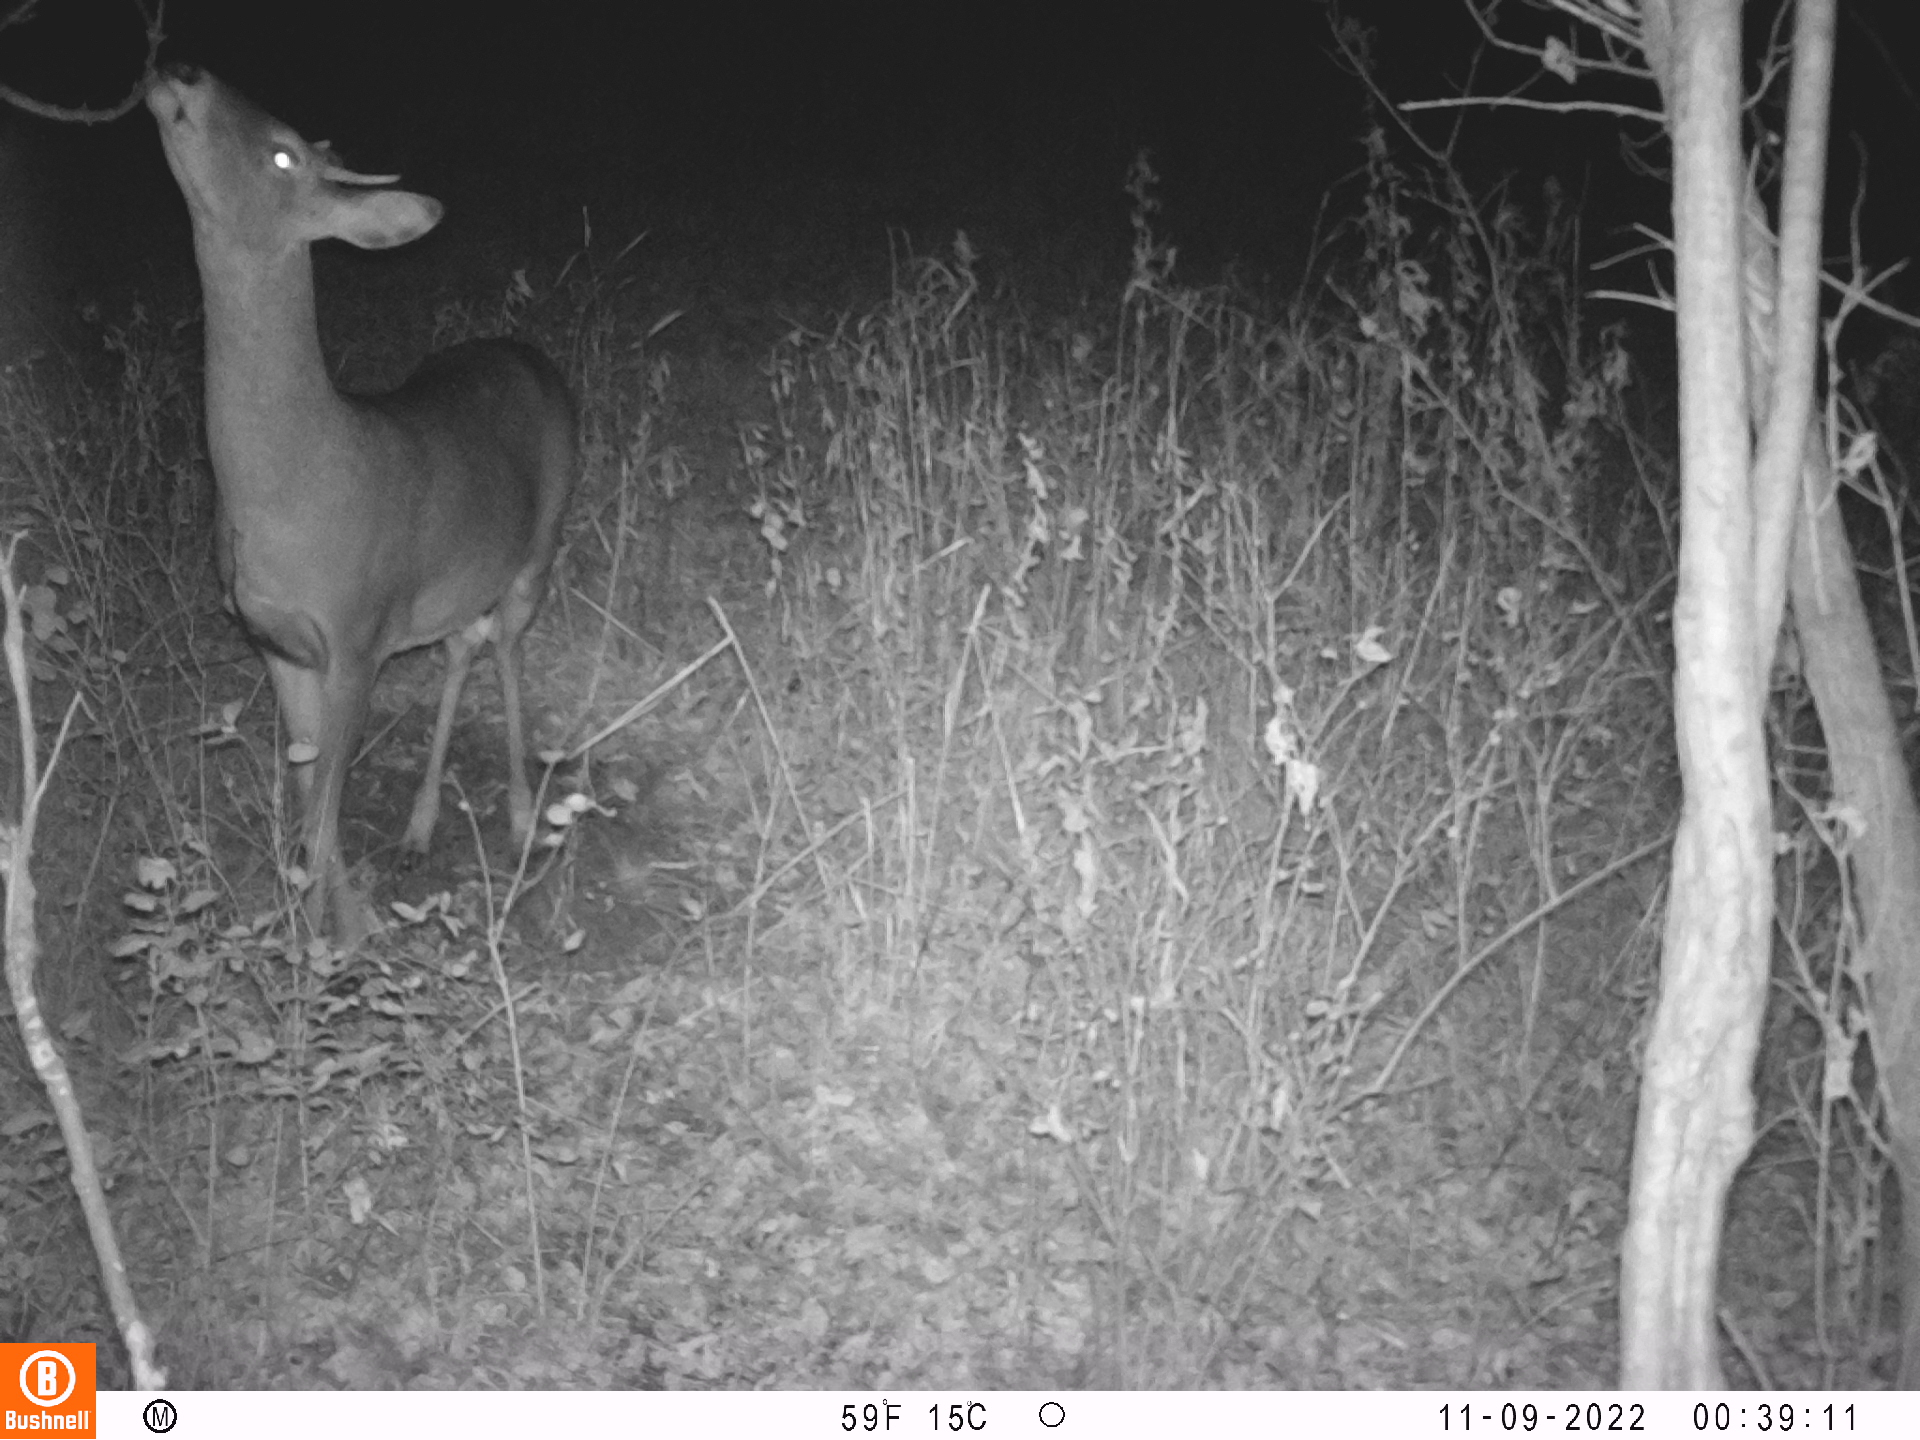DeerBuck: (135, 52, 579, 936)
DeerBuckHead: (135, 52, 447, 251)
